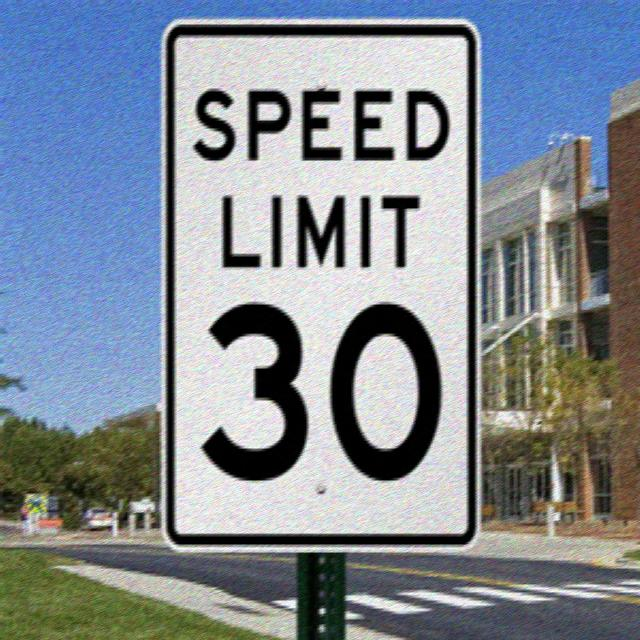speedLimit30: (159, 14, 483, 554)
